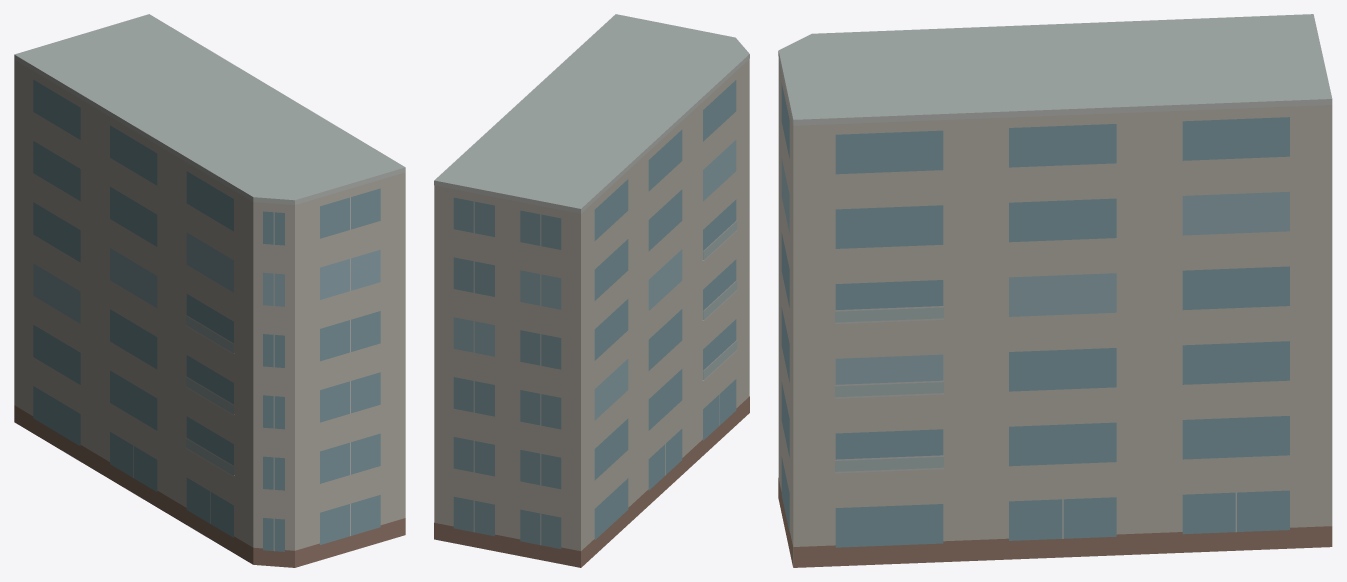
File: survey-upis-32670034.glb
3 views of the same model, side by side, from view 1: azimuth 30°, elevation 25°; view 2: azimuth 150°, elevation 25°; view 3: azimuth 270°, elevation 25° (orthographic). The views are drawn at different scales.
Visible parts, largest first — view 1: survey-upis-32670034.tmp; view 2: survey-upis-32670034.tmp; view 3: survey-upis-32670034.tmp.
Part boxes in pixels (left/top/right/bottom): survey-upis-32670034.tmp: left=14, top=14, right=405, bottom=567; survey-upis-32670034.tmp: left=434, top=14, right=749, bottom=567; survey-upis-32670034.tmp: left=778, top=14, right=1332, bottom=567.
Size of the model in its own units: 9.28 by 18.3 by 20.51.
